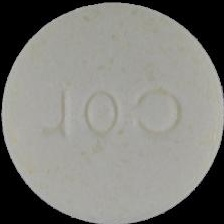42291-130: (0, 0, 224, 224)
